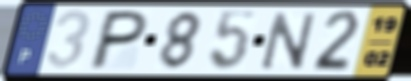2: (310, 8, 361, 75)
3: (44, 8, 97, 73)
5: (208, 9, 259, 73)
8: (157, 9, 204, 72)
N: (258, 10, 320, 72)
P: (84, 9, 152, 72)
